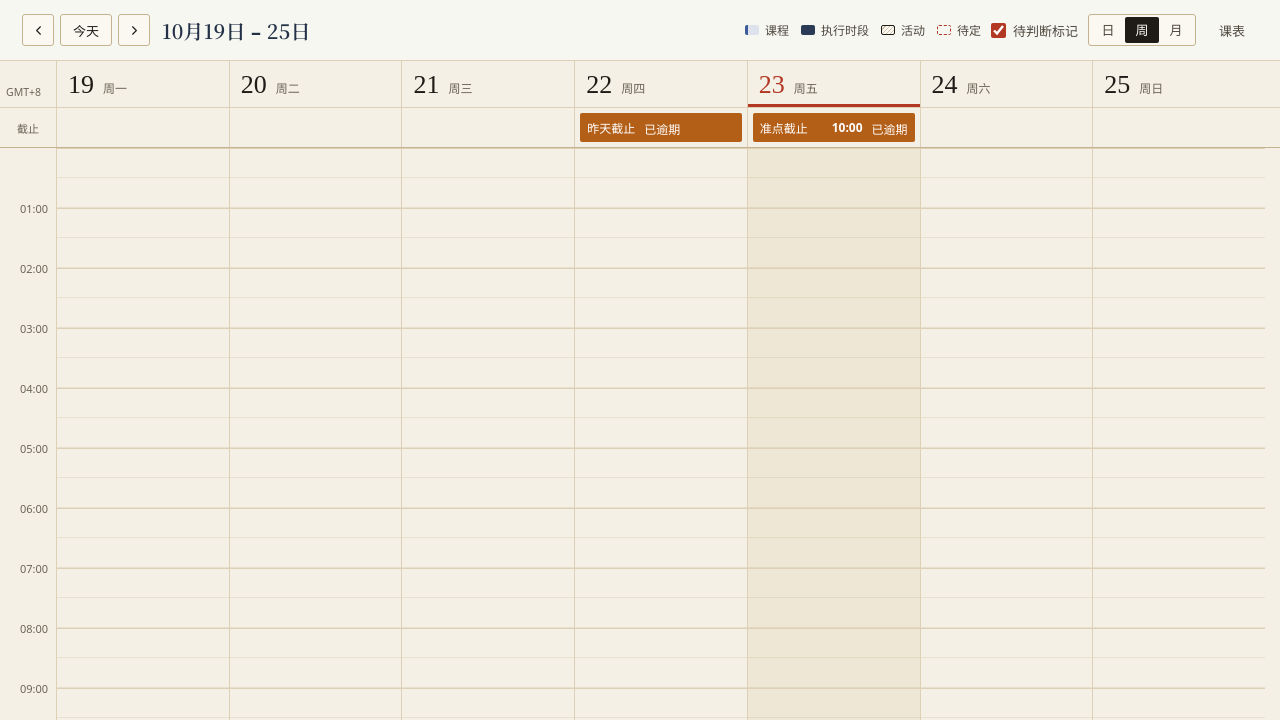
Scenario: personal calendar attention states › marks timed and all-day overdue deadlines in the deadline row and month view without warning for completed tasks
Check: the text "已逾期" is shown 2 times, box [644,122,680,137]; [872,122,908,137]
Step 1. Click the button "月" → click(1176, 30), box [1159,17,1193,43]
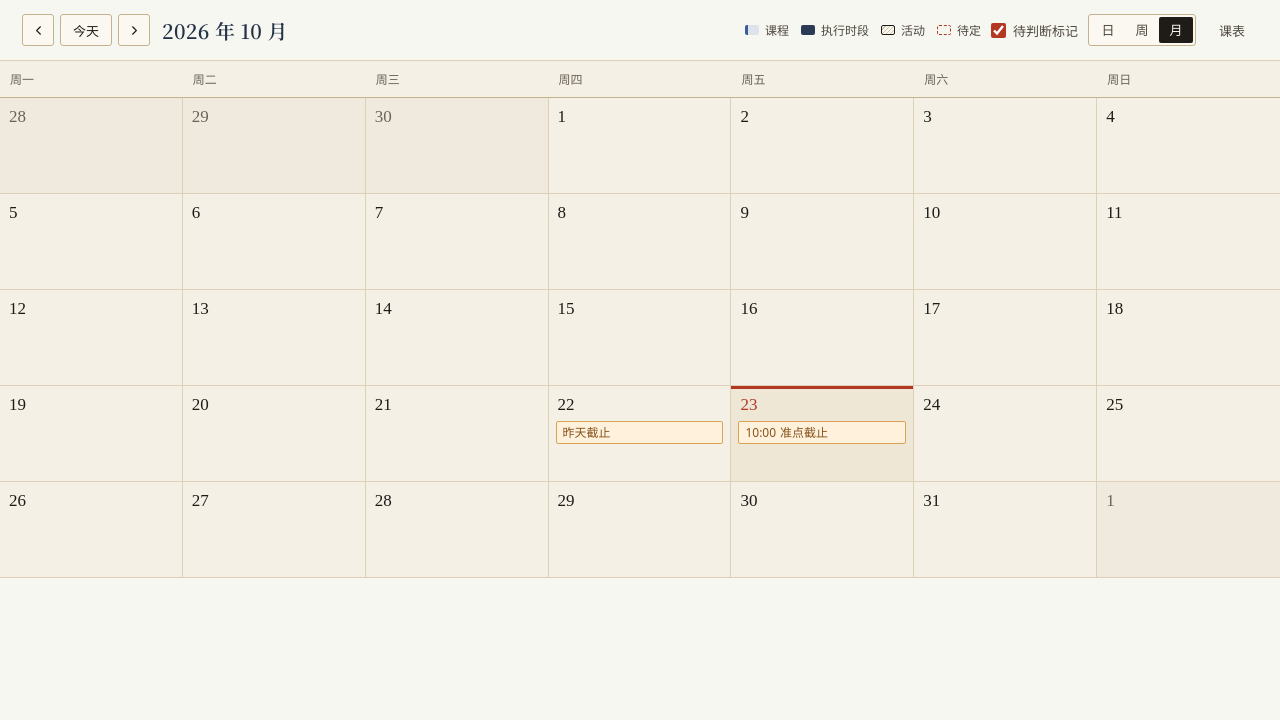
Check: the number of buttons with class "calendar-attention" is 2, box [556,421,724,444]; [738,421,906,444]
